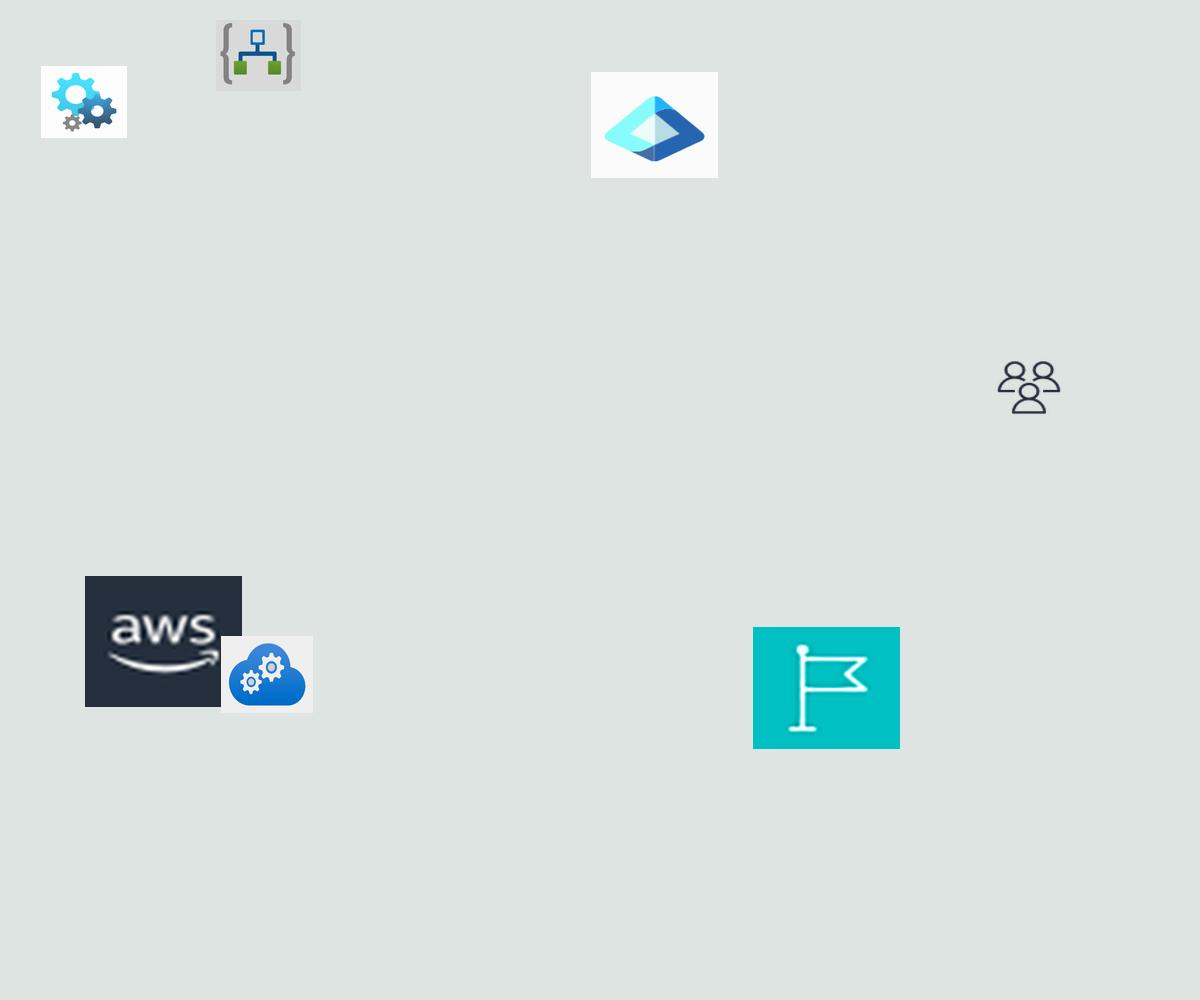AWS-Cloud-logo: (85, 576, 242, 707)
AWS-Region: (753, 627, 900, 749)
AWS-Res_Users: (995, 359, 1063, 416)
Azure_api: (41, 66, 127, 138)
Azure_cloud_services: (221, 636, 313, 713)
Azure_integration-204-Logic-Apps: (216, 20, 301, 91)
Azure_microsoft_entra: (591, 72, 718, 178)
